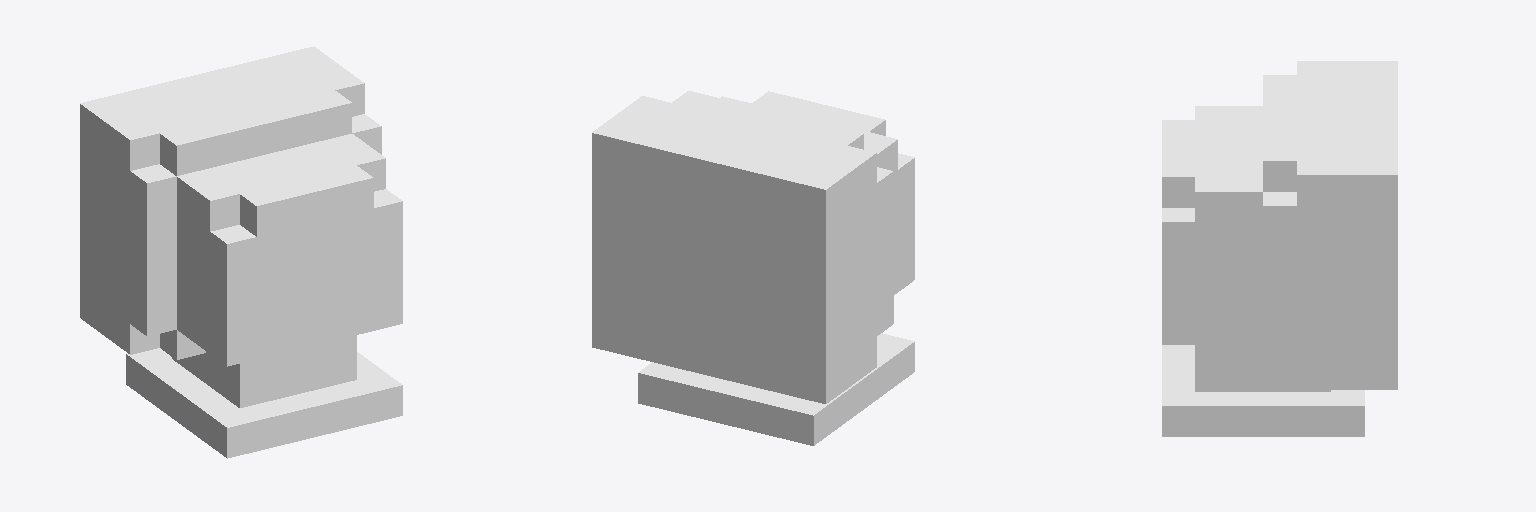
Rendered from CRTmonitor.obj.
3 views of the same model, side by side, from view 1: azimuth 30°, elevation 25°; view 2: azimuth 150°, elevation 25°; view 3: azimuth 270°, elevation 25° (orthographic).
Visible parts, largest first — view 1: object 1; view 2: object 1; view 3: object 1.
Part boxes in pixels (x1,y1,x2,y2): object 1: (80, 46, 402, 458); object 1: (592, 91, 914, 445); object 1: (1162, 61, 1397, 436).
Bounding box in the file's own units: 0.8 × 0.9 × 0.7.